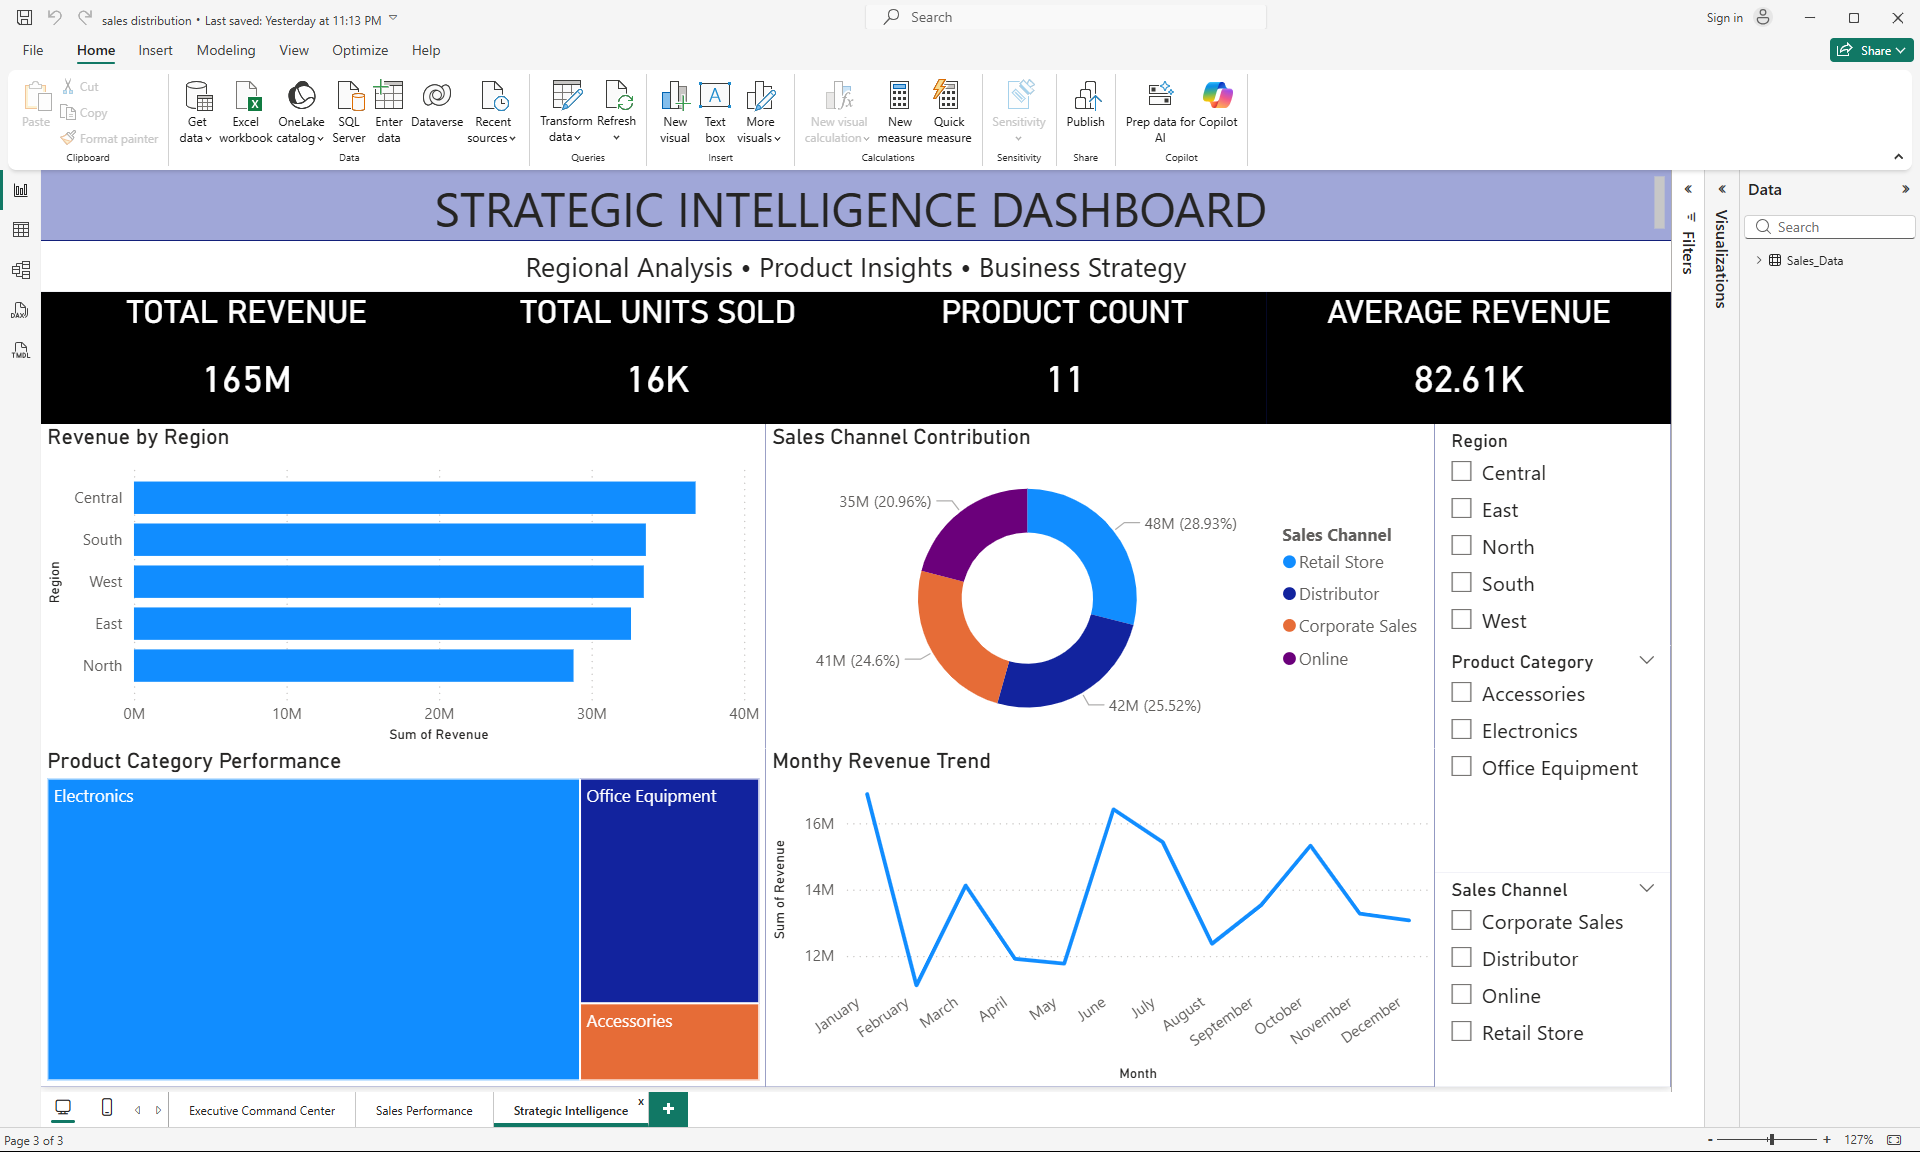

This screenshot's page, from the dashboard's own definition file:
{"tool":"powerbi","page":{"name":"Strategic Intelligence","canvas":[1280,720],"ordinal":2},"visuals":[{"type":"textbox","box":[0,0,1280,55.5],"z":0},{"type":"textbox","box":[0,55.5,1280,40],"z":1},{"type":"card","title":"TOTAL REVENUE","fields":{"Values":["Sum(Sales_Data.Revenue)"]},"box":[0,95.5,322.7,103.6],"z":2},{"type":"card","title":"TOTAL UNITS SOLD","fields":{"Values":["Sum(Sales_Data.Units Sold)"]},"box":[322.7,95.5,322.7,103.6],"z":3},{"type":"card","title":"PRODUCT COUNT","fields":{"Values":["Count(Sales_Data.Product)"]},"box":[645.5,95.5,317.3,103.6],"z":4},{"type":"card","title":"AVERAGE REVENUE","fields":{"Values":["Avg(Sales_Data.Revenue)"]},"box":[962.7,95.5,317.3,103.6],"z":5},{"type":"clusteredBarChart","title":"Revenue by Region","fields":{"Category":["Sales_Data.Region"],"Y":["Sum(Sales_Data.Revenue)"]},"box":[0,199.1,569.1,254.5],"z":6},{"type":"donutChart","title":" Sales Channel Contribution","fields":{"Category":["Sales_Data.Sales Channel"],"Y":["Sum(Sales_Data.Revenue)"]},"box":[569.1,199.1,525.5,254.5],"z":7},{"type":"lineChart","title":" Monthy Revenue Trend","fields":{"Category":["Sales_Data.Date.Variation.Date Hierarchy.Month"],"Y":["Sum(Sales_Data.Revenue)"]},"box":[569.1,453.6,525.5,266.4],"z":9},{"type":"slicer","fields":{"Values":["Sales_Data.Region"]},"box":[1094.5,199.1,185.5,173.6],"z":10},{"type":"slicer","fields":{"Values":["Sales_Data.Product Category"]},"box":[1094.5,372.7,185.5,179.1],"z":11},{"type":"slicer","fields":{"Values":["Sales_Data.Sales Channel"]},"box":[1094.5,551.8,185.5,168.2],"z":12},{"type":"treemap","title":" Product Category Performance","fields":{"Values":["Sum(Sales_Data.Revenue)"],"Group":["Sales_Data.Product Category"]},"box":[0,454,569,266],"z":13}]}

Visuals, with their boxes on the page's 1280x720 design canvas (x1, y1, x2, y2). These are canvas units, not pixel positions in the 1920x1152 screenshot, which may show the page scaled, cropped or inside an application window:
textbox: 0/0/1280/56
textbox: 0/56/1280/96
"TOTAL REVENUE" card: 0/96/323/199
"TOTAL UNITS SOLD" card: 323/96/645/199
"PRODUCT COUNT" card: 646/96/963/199
"AVERAGE REVENUE" card: 963/96/1280/199
"Revenue by Region" clusteredBarChart: 0/199/569/454
" Sales Channel Contribution" donutChart: 569/199/1095/454
" Monthy Revenue Trend" lineChart: 569/454/1095/720
slicer - Sales_Data.Region: 1094/199/1280/373
slicer - Sales_Data.Product Category: 1094/373/1280/552
slicer - Sales_Data.Sales Channel: 1094/552/1280/720
" Product Category Performance" treemap: 0/454/569/720
